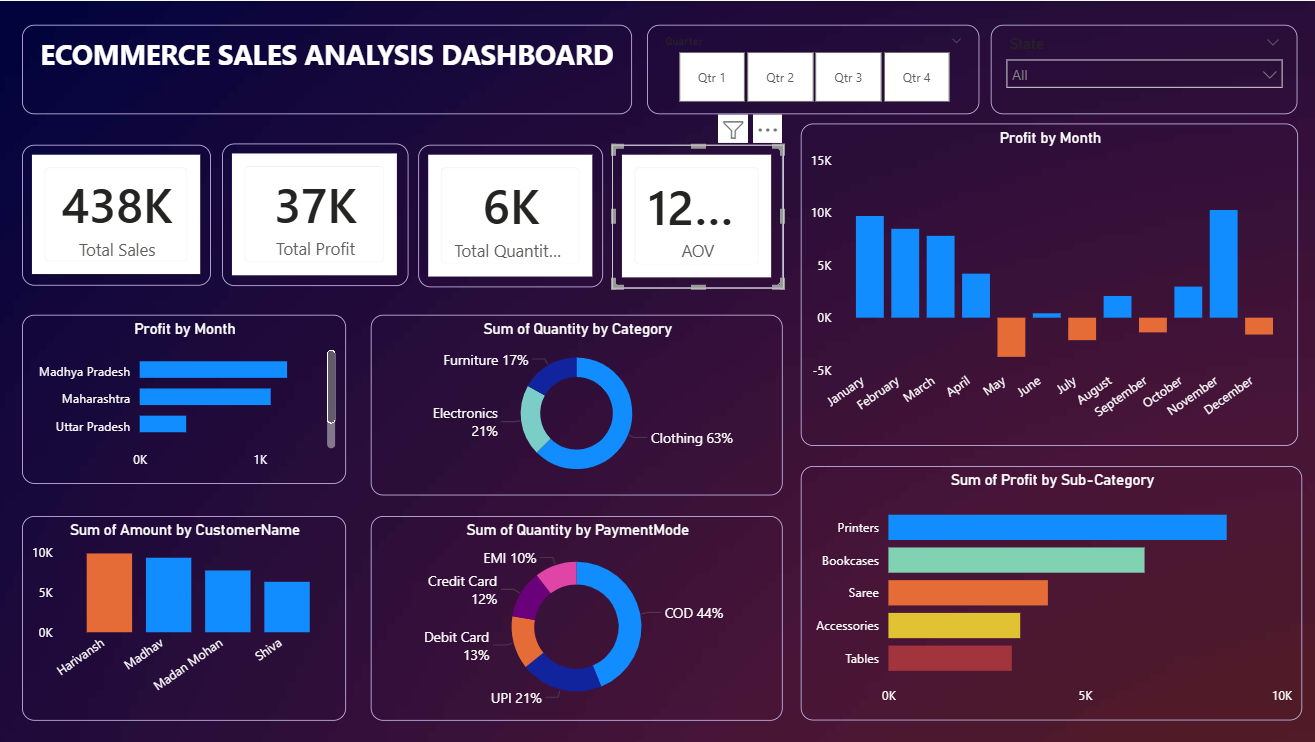

The dashboard page shown, as its layout file describes it:
{"tool":"powerbi","page":{"name":"Page 1","canvas":[1280,720],"ordinal":0},"visuals":[{"type":"textbox","box":[24.7,23.3,588.7,86.4],"z":0},{"type":"columnChart","title":"Profit by Month","fields":{"Category":["Orders.Order Date.Variation.Date Hierarchy.Month"],"Y":["Sum(Details.Profit)"]},"box":[775.3,118,480.3,311.5],"z":1000},{"type":"barChart","fields":{"Category":["Details.Sub-Category"],"Y":["Sum(Details.Profit)"]},"box":[775.3,448.7,484.4,245.6],"z":2000},{"type":"donutChart","fields":{"Category":["Details.Category"],"Y":["Sum(Details.Quantity)"]},"box":[360.9,303.3,397.9,174.3],"z":3000},{"type":"donutChart","fields":{"Y":["Sum(Details.Quantity)"],"Category":["Details.PaymentMode"]},"box":[360.9,496.7,397.9,197.6],"z":4000},{"type":"cardVisual","fields":{"Data":["Sum(Details.Amount)"]},"box":[24.7,138.6,182.5,135.8],"z":5000},{"type":"cardVisual","fields":{"Data":["Sum(Details.Profit)"]},"box":[216.8,137.2,179.8,137.2],"z":6000},{"type":"cardVisual","fields":{"Data":["Sum(Details.Quantity)"]},"box":[406.2,138.6,178.4,137.2],"z":7000},{"type":"cardVisual","fields":{"Data":["Sum(Details.AOV)"]},"box":[594.2,138.6,164.7,138.6],"z":8000},{"type":"barChart","title":"Profit by Month","fields":{"Category":["Orders.State"],"Y":["Sum(Details.Quantity)"]},"box":[24.7,303.3,312.9,163.3],"z":9000},{"type":"columnChart","fields":{"Category":["Orders.CustomerName"],"Y":["Sum(Details.Amount)"]},"box":[24.7,496.7,312.9,197.6],"z":10000},{"type":"slicer","fields":{"Values":["Orders.Order Date.Variation.Date Hierarchy.Quarter"]},"box":[627.1,23.3,321.1,86.4],"z":11000},{"type":"slicer","fields":{"Values":["Orders.State"]},"box":[959.2,23.3,296.4,86.4],"z":12001}]}

Visuals, with their boxes in screenshot pixels (x1, y1, x2, y2), scaled from the page's 1280x720 canvas onto the 1315x742 screenshot:
textbox: x1=25 y1=24 x2=630 y2=113
"Profit by Month" columnChart: x1=796 y1=122 x2=1290 y2=443
barChart - Details.Sub-Category x Sum(Details.Profit): x1=796 y1=462 x2=1294 y2=716
donutChart - Details.Category x Sum(Details.Quantity): x1=371 y1=313 x2=780 y2=492
donutChart - Sum(Details.Quantity) x Details.PaymentMode: x1=371 y1=512 x2=780 y2=716
cardVisual - Sum(Details.Amount): x1=25 y1=143 x2=213 y2=283
cardVisual - Sum(Details.Profit): x1=223 y1=141 x2=407 y2=283
cardVisual - Sum(Details.Quantity): x1=417 y1=143 x2=601 y2=284
cardVisual - Sum(Details.AOV): x1=610 y1=143 x2=780 y2=286
"Profit by Month" barChart: x1=25 y1=313 x2=347 y2=481
columnChart - Orders.CustomerName x Sum(Details.Amount): x1=25 y1=512 x2=347 y2=716
slicer - Orders.Order Date.Variation.Date Hierarchy.Quarter: x1=644 y1=24 x2=974 y2=113
slicer - Orders.State: x1=985 y1=24 x2=1290 y2=113
